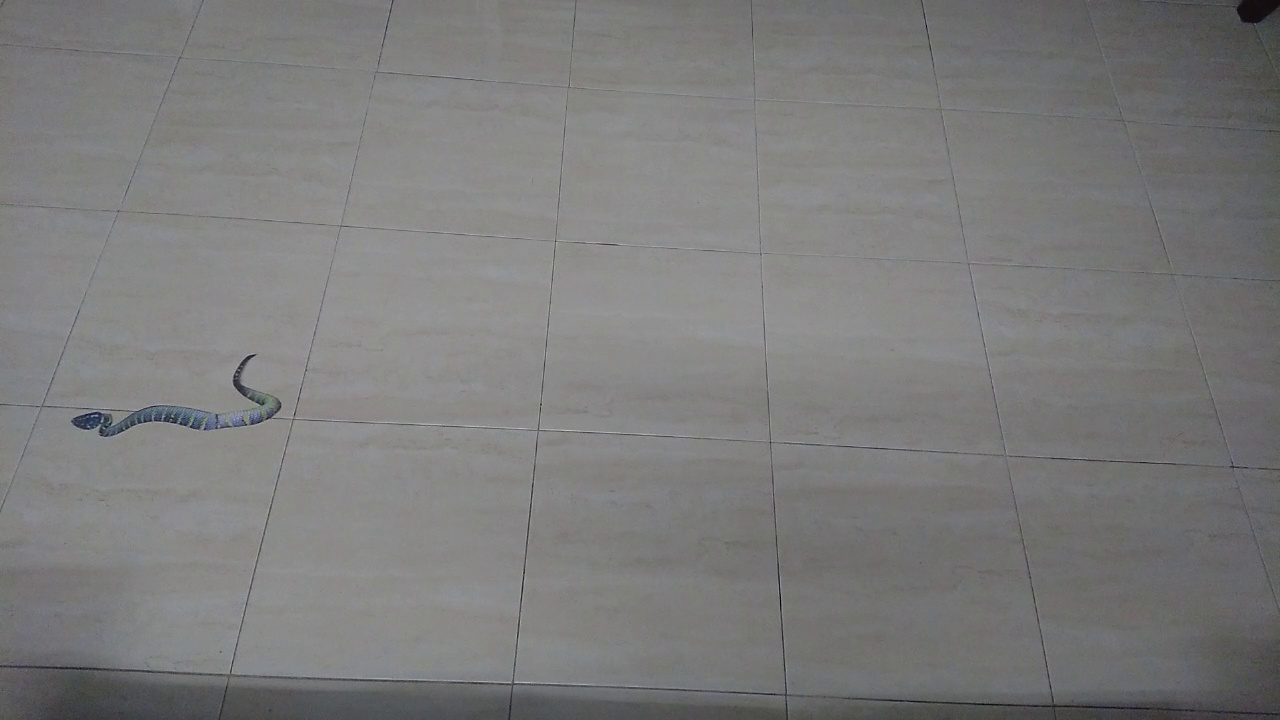snake: (56, 333, 294, 452)
